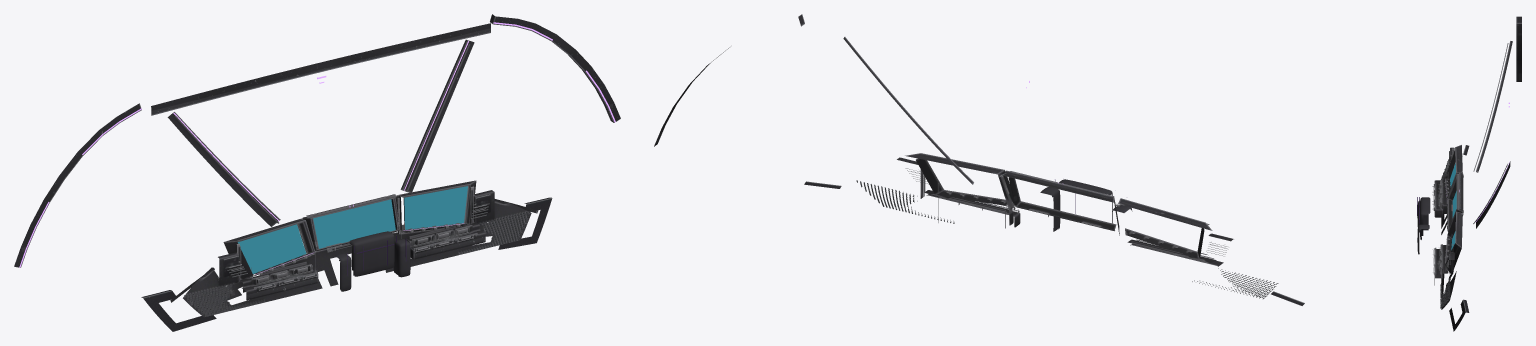
Rendered from sd_hayalet_cockpit_r005.glb.
3 renders of one model, left to right at view 1: azimuth 30°, elevation 25°; view 2: azimuth 150°, elevation 25°; view 3: azimuth 270°, elevation 25°, orthographic. The views are drawn at different scales.
Visible parts, largest first — view 1: LOD0_body, SCR_RADAR, SCR_HULL, SCR_SYS, LOD0_emit; view 2: LOD0_body; view 3: LOD0_body.
Boxes of the visible parts, x1,y1,x2,y2 form: LOD0_body: [14, 14, 620, 331]; SCR_RADAR: [313, 199, 395, 248]; SCR_HULL: [404, 186, 467, 229]; SCR_SYS: [237, 224, 306, 273]; LOD0_emit: [19, 22, 615, 274]; LOD0_body: [654, 14, 1304, 305]; LOD0_body: [1417, 16, 1521, 331].
Size of the model in its own units: 4.82 by 1.52 by 0.859.
3 materials, 1 textured.
